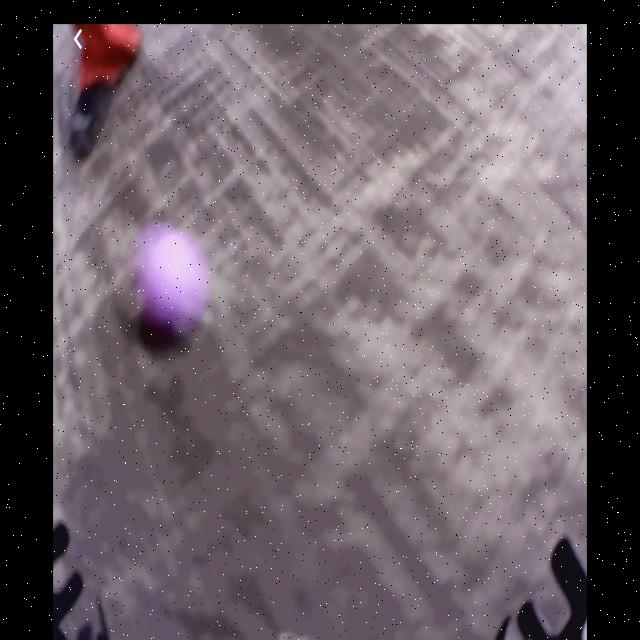ball: (140, 228, 207, 335)
